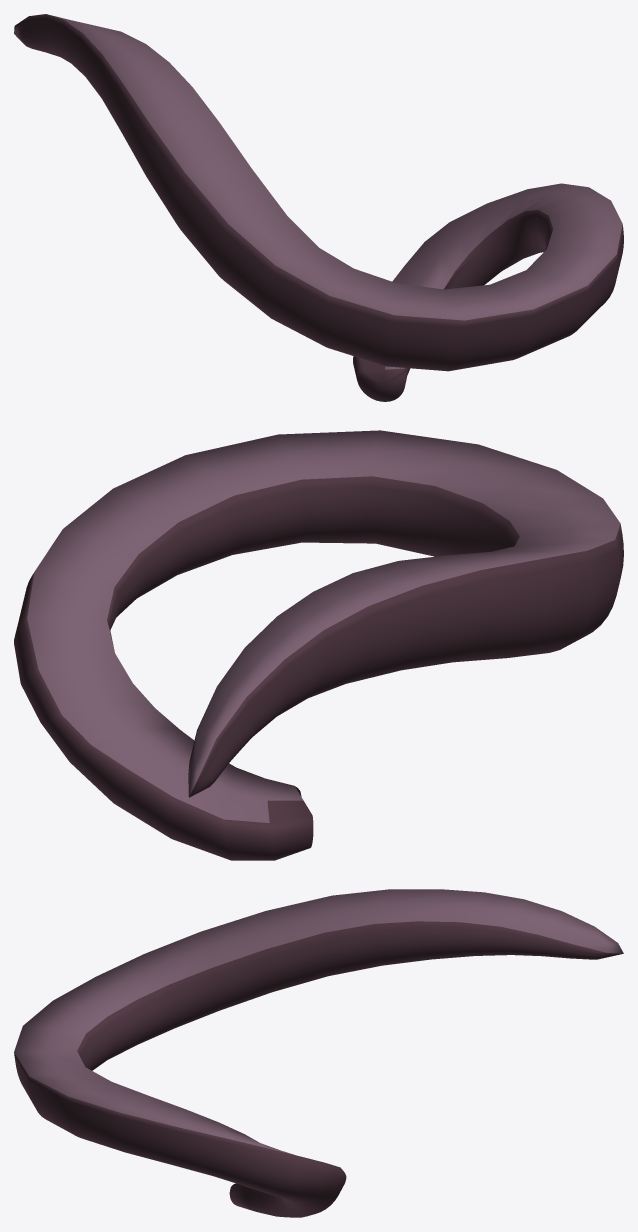
File: NIVEL1_LUCES_RAMA6.fbx
3 views of the same model, one above another, from view 1: azimuth 30°, elevation 25°; view 2: azimuth 150°, elevation 25°; view 3: azimuth 270°, elevation 25° (orthographic). The views are drawn at different scales.
Visible parts, largest first — view 1: rama.005; view 2: rama.005; view 3: rama.005.
Part boxes in pixels (bbox=[...]): rama.005: bbox=[14, 14, 623, 401]; rama.005: bbox=[14, 430, 623, 860]; rama.005: bbox=[14, 889, 623, 1217].
Size of the model in its own units: 550 by 408 by 894.
